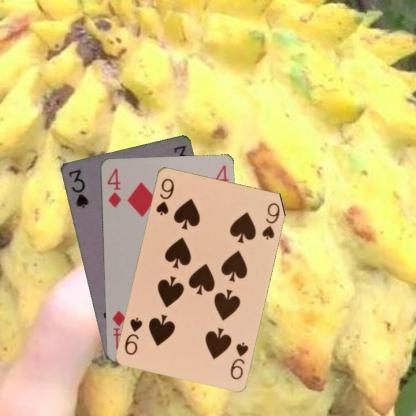3s: (66, 166, 89, 210)
4d: (104, 165, 122, 209)
9s: (227, 338, 250, 380), (153, 175, 175, 217)
